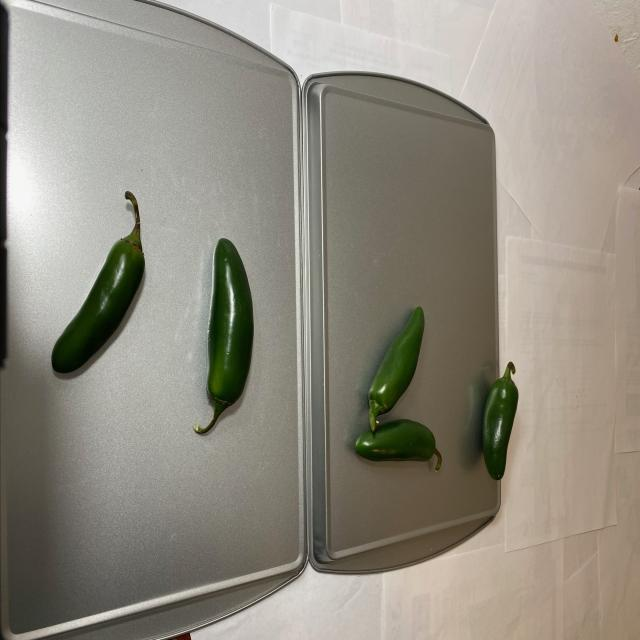chilli: (57, 189, 258, 443), (332, 297, 521, 493)
